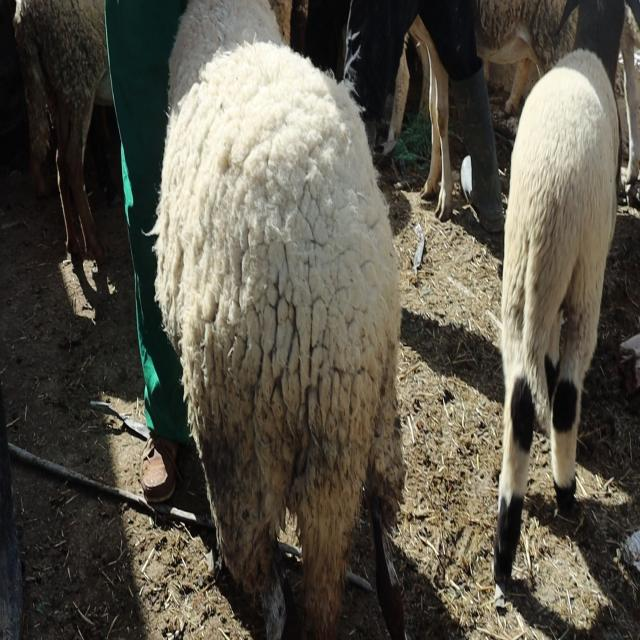Score_3: (150, 0, 406, 639)
